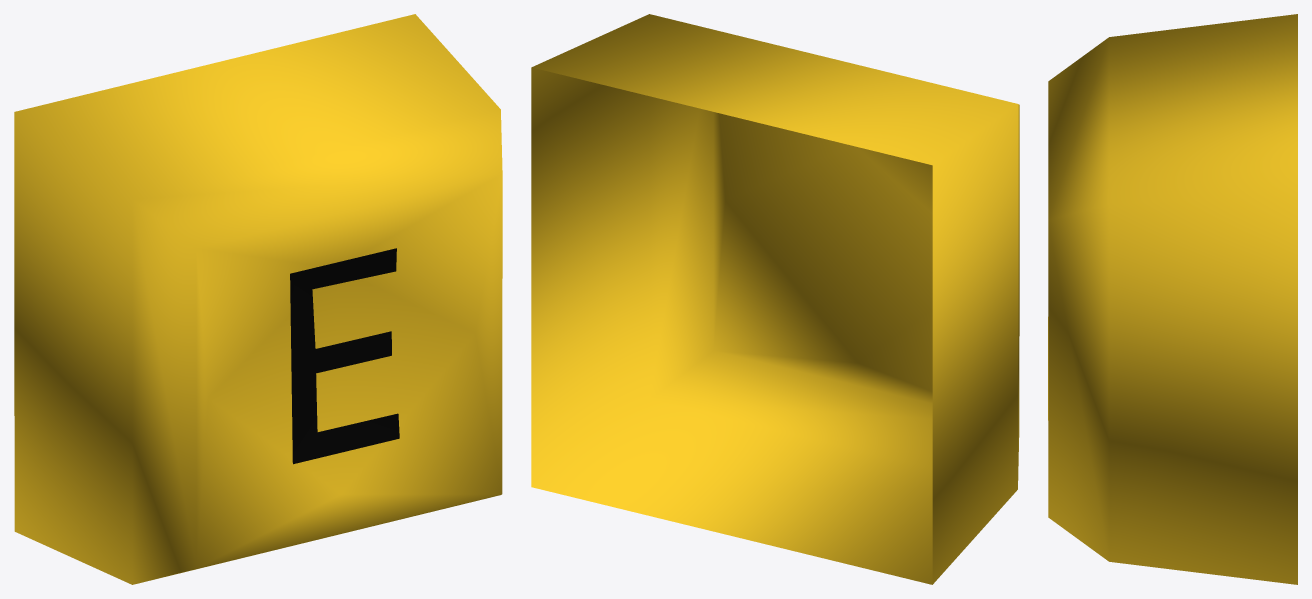
The model's file is button.glb.
The picture shows the model from 3 angles, left to right: view 1: azimuth 30°, elevation 25°; view 2: azimuth 150°, elevation 25°; view 3: azimuth 270°, elevation 25°; orthographic projection. The views are drawn at different scales.
Parts seen in each view (by area): view 1: Button; view 2: Button; view 3: Button.
Boxes of the visible parts, bbox=[...] form: Button: bbox=[14, 14, 502, 584]; Button: bbox=[531, 14, 1019, 584]; Button: bbox=[1048, 14, 1297, 584].
Bounding box in the file's own units: 0.1998 × 0.1998 × 0.1161.
Materials: 2 (1 with a texture image).
